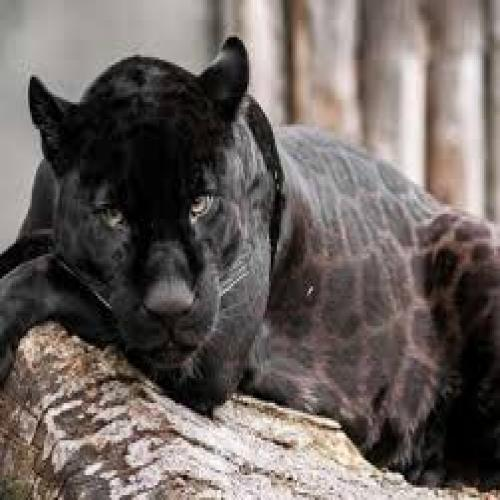panther-endangered: (0, 37, 495, 478)
